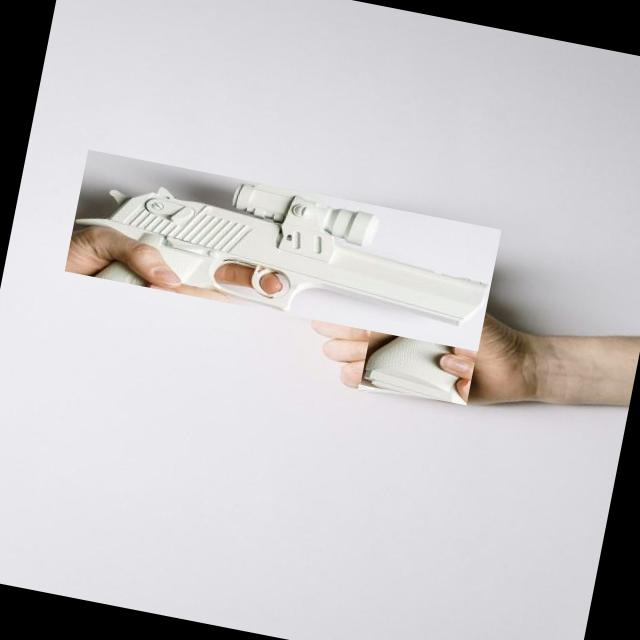Gun: (74, 184, 490, 330), (362, 321, 466, 406)
